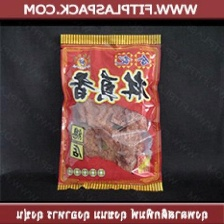snack: (50, 27, 174, 196)
